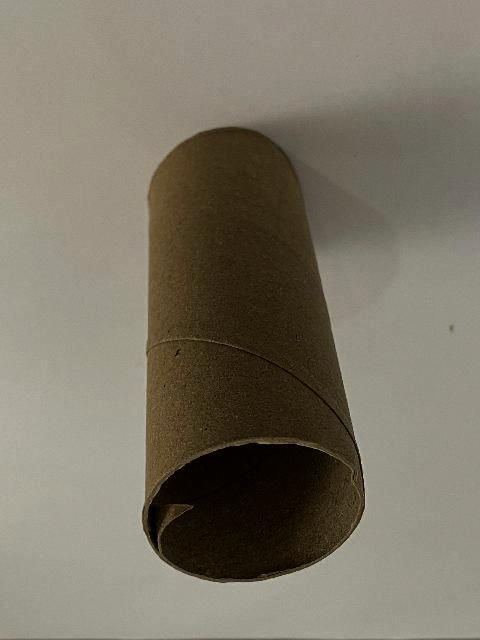tissueroll: (141, 124, 367, 586)
